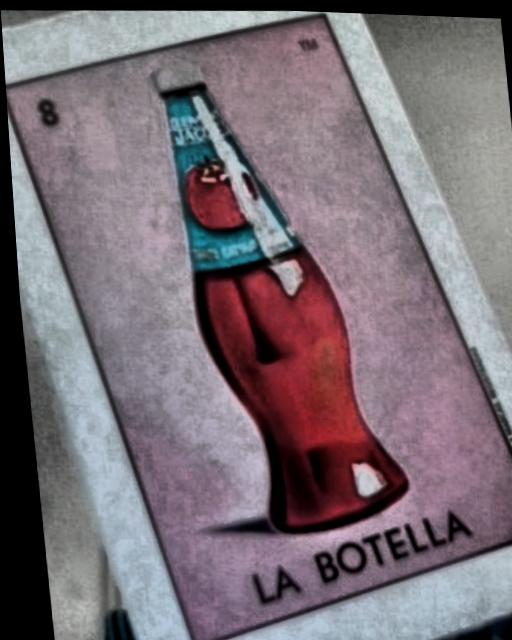La Botella: (4, 9, 512, 640)
